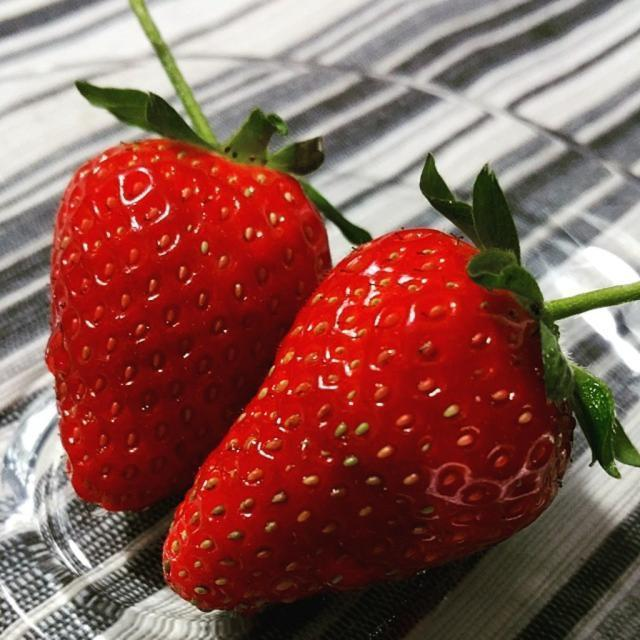Strawberry: (160, 226, 579, 616), (42, 130, 333, 512)
